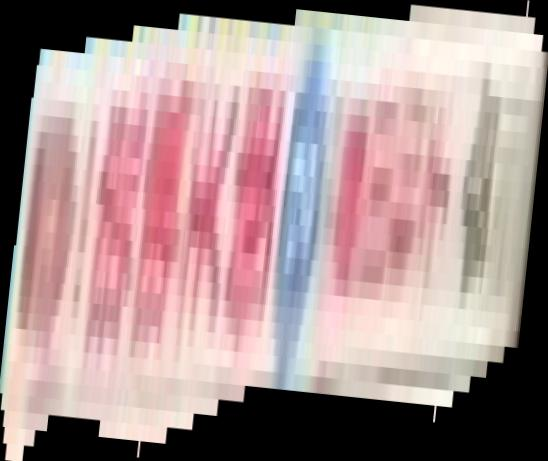flat: (1, 1, 548, 461)
